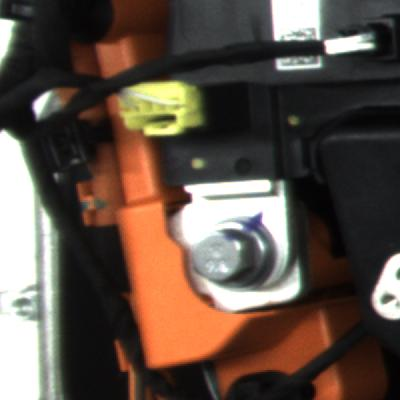nut_b: (184, 204, 279, 291)
